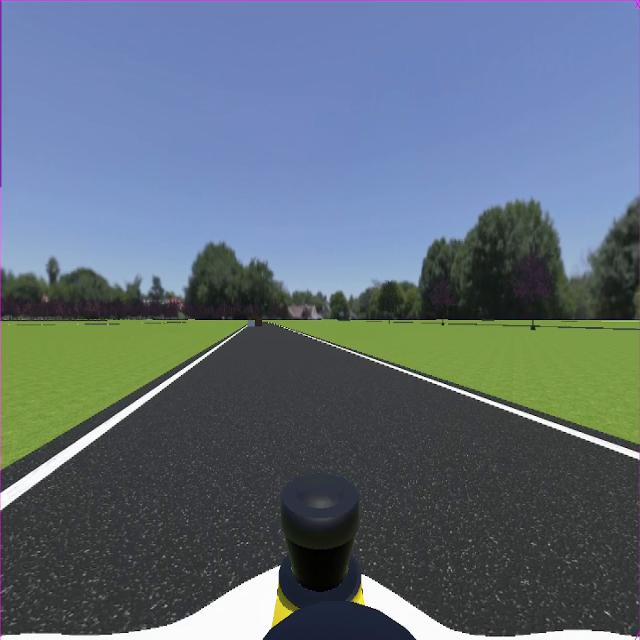road: (2, 328, 638, 634)
solid_line: (280, 325, 640, 460), (1, 331, 240, 510)
